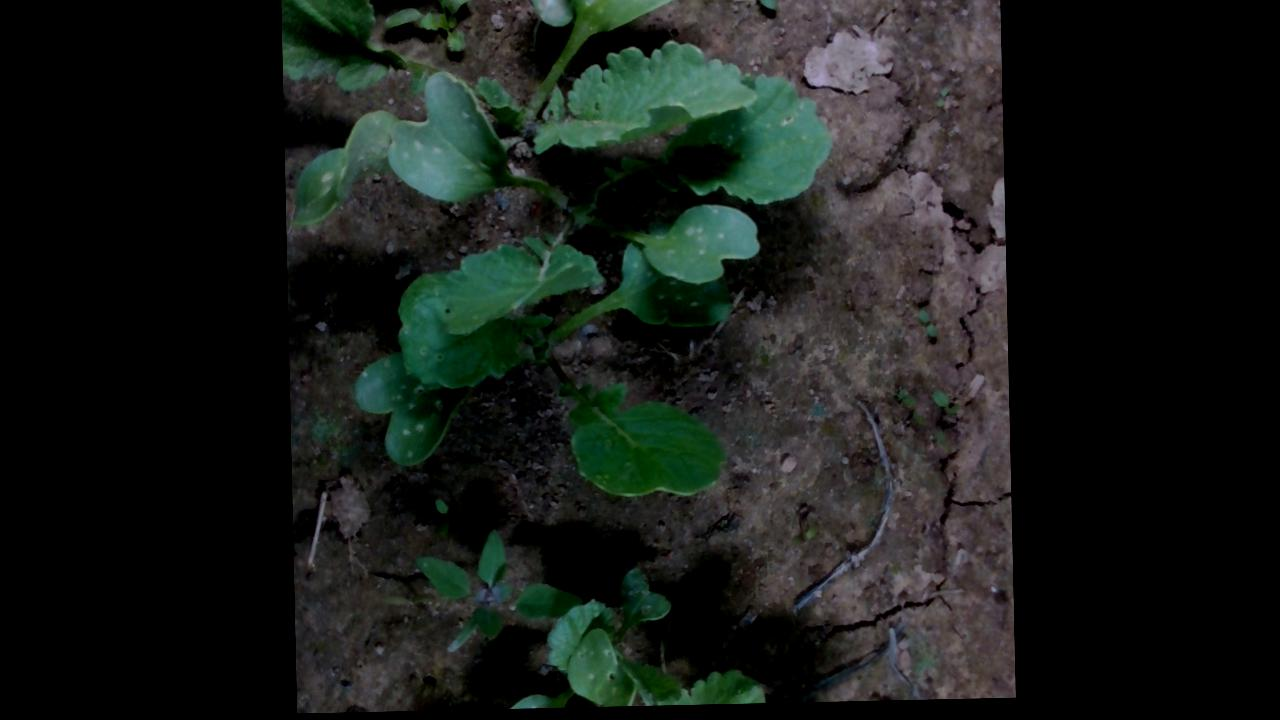weed: (430, 497, 452, 539), (916, 311, 937, 342), (746, 0, 781, 15)
